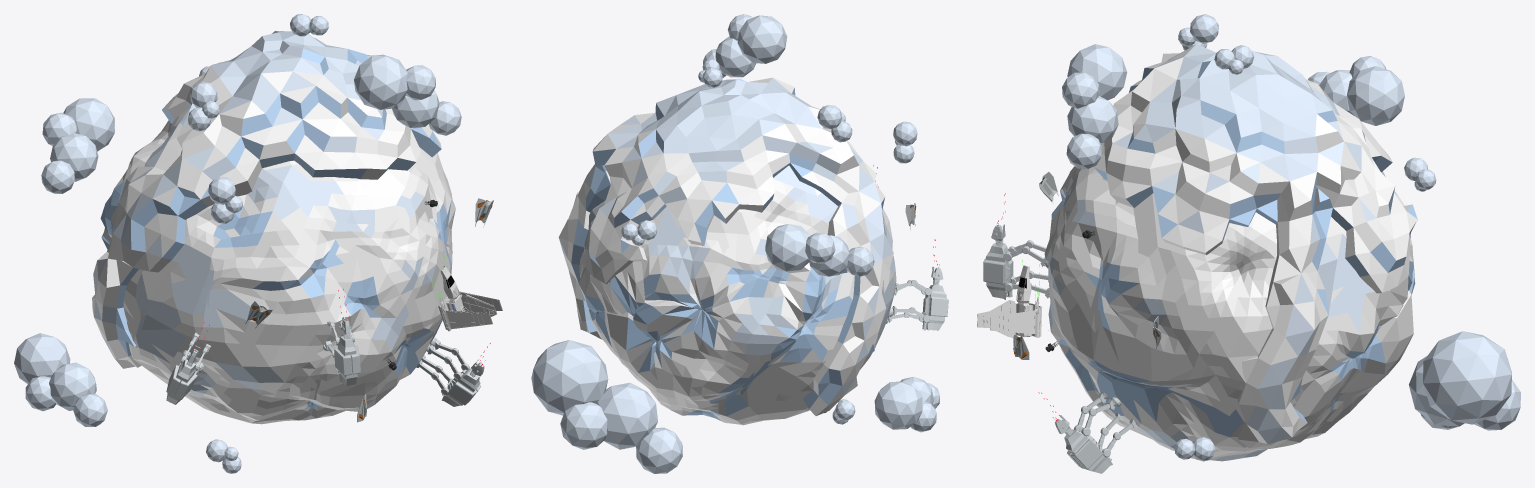
Rendered from hothPlanet-backup.glb.
3 renders of one model, left to right at view 1: azimuth 30°, elevation 25°; view 2: azimuth 150°, elevation 25°; view 3: azimuth 270°, elevation 25°, orthographic. The views are drawn at different scales.
Parts seen in each view (by area): view 1: Hoth, Mountains, Cloud1.001, Cloud1, Cloud1.003, Imperial_Shuttle, At_at_02, At_at_03, At_at_01, Cloud2, Cloud2.001, Cloud2.003 (+1 smaller); view 2: Hoth, Mountains, Cloud1.002, Cloud1.003, Cloud1, Cloud1.001, At_at_01, Cloud2, Cloud2.001, Cloud2.004, Cloud2.005; view 3: Hoth, Mountains, Cloud1.002, Cloud1, Cloud1.003, At_at_02, At_at_03, Imperial_Shuttle, Cloud2, Cloud2.005, Cloud2.002, Cloud2.004.
Part boxes in pixels (x1,y1,x2,y2): Hoth: (100, 108, 455, 424); Mountains: (92, 30, 441, 368); Cloud1.001: (14, 333, 107, 426); Cloud1: (354, 54, 461, 135); Cloud1.003: (41, 98, 114, 193); Imperial_Shuttle: (421, 256, 502, 331); At_at_02: (416, 337, 490, 406); At_at_03: (323, 289, 360, 385); At_at_01: (166, 322, 210, 404); Cloud2: (187, 81, 219, 131); Cloud2.001: (208, 176, 242, 223); Cloud2.003: (206, 439, 241, 473); Hoth: (578, 165, 896, 425); Mountains: (558, 77, 893, 415); Cloud1.002: (531, 340, 682, 473); Cloud1.003: (765, 224, 874, 276); Cloud1: (703, 14, 787, 77); Cloud1.001: (874, 377, 939, 432); At_at_01: (886, 239, 948, 330); Cloud2: (817, 105, 852, 142); Cloud2.001: (893, 121, 917, 163); Cloud2.004: (621, 220, 656, 245); Cloud2.005: (698, 59, 722, 87); Hoth: (1044, 166, 1415, 461); Mountains: (1093, 44, 1417, 448); Cloud1.002: (1409, 331, 1520, 430); Cloud1: (1062, 44, 1127, 168); Cloud1.003: (1308, 56, 1404, 125); At_at_02: (1038, 392, 1138, 473); At_at_03: (983, 193, 1050, 299); Imperial_Shuttle: (977, 260, 1048, 337); Cloud2: (1178, 14, 1218, 50); Cloud2.005: (1214, 45, 1253, 74); Cloud2.002: (1174, 437, 1215, 461); Cloud2.004: (1404, 157, 1436, 191).
Size of the model in its own units: 19.95 by 18.61 by 21.22.
